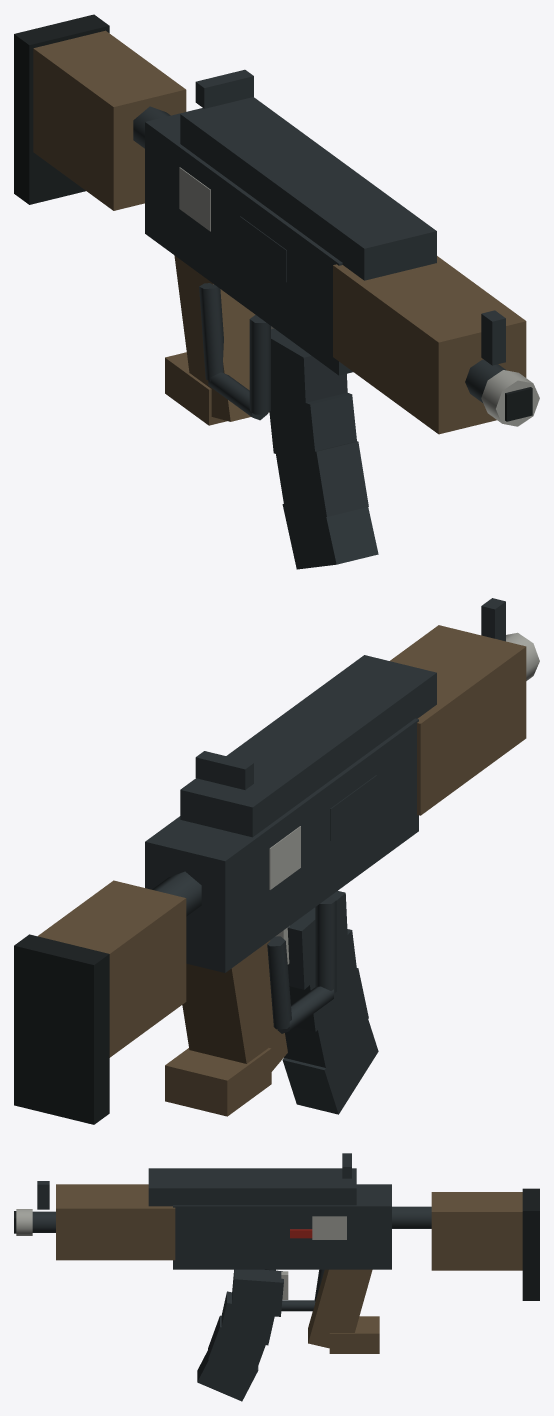
The picture shows the model from 3 angles, top to bottom: view 1: azimuth 30°, elevation 25°; view 2: azimuth 150°, elevation 25°; view 3: azimuth 270°, elevation 25°; orthographic projection. The views are drawn at different scales.
Parts seen in each view (by area): view 1: weapon-rifle-ak-painted; view 2: weapon-rifle-ak-painted; view 3: weapon-rifle-ak-painted.
Part boxes in pixels (x1,y1,x2,y2): weapon-rifle-ak-painted: (14,14,539,569); weapon-rifle-ak-painted: (14,598,539,1124); weapon-rifle-ak-painted: (14,1153,539,1401).
Size of the model in its own units: 0.5333 by 2.34 by 4.74.
